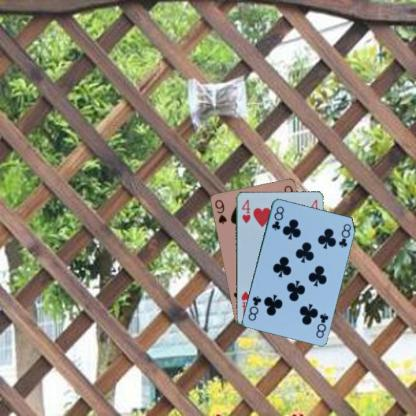4h: (239, 197, 251, 224)
8c: (268, 203, 286, 232), (313, 310, 329, 339)
9s: (212, 197, 228, 225)
